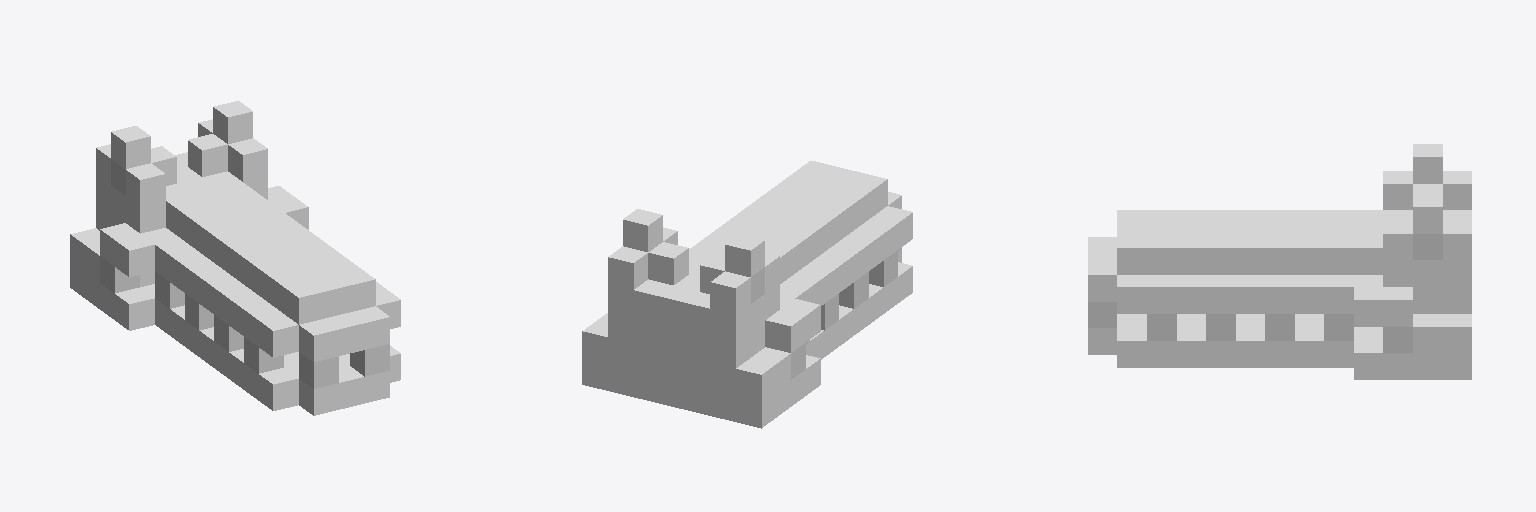
The picture shows the model from 3 angles: view 1: azimuth 30°, elevation 25°; view 2: azimuth 150°, elevation 25°; view 3: azimuth 270°, elevation 25°; orthographic projection.
Visible parts, largest first — view 1: object 1; view 2: object 1; view 3: object 1.
Part boxes in pixels (left/top/right/bottom): object 1: left=70, top=101, right=400, bottom=415; object 1: left=582, top=161, right=912, bottom=428; object 1: left=1088, top=144, right=1471, bottom=379.
Bounding box in the file's own units: 1.4 × 1.2 × 2.6.
Materials: 1 (1 with a texture image).